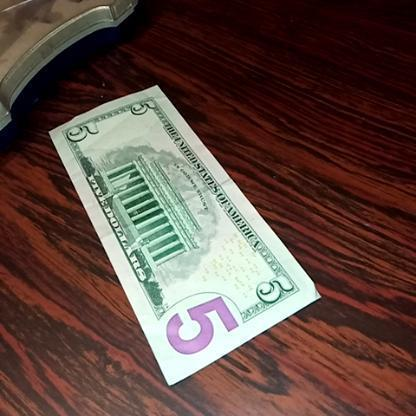five-back: (47, 81, 322, 392)
